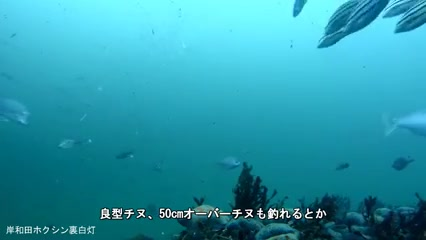smallfish: (56, 134, 88, 153)
